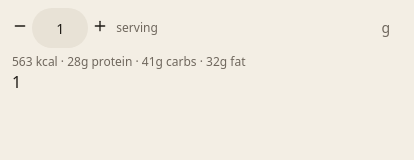
Scenario: ServingAmount › moves by half a serving on one tap of +
The image size is (414, 160).
Click the button named "Increase": {"x": 100, "y": 26} [92,18,108,34]
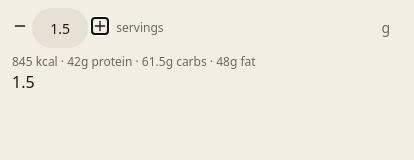
Result: the text with test id "amount" reads "1.5" at [12,71,35,93]
